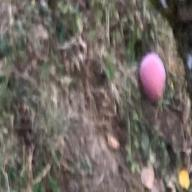Apples: (142, 55, 164, 100)
